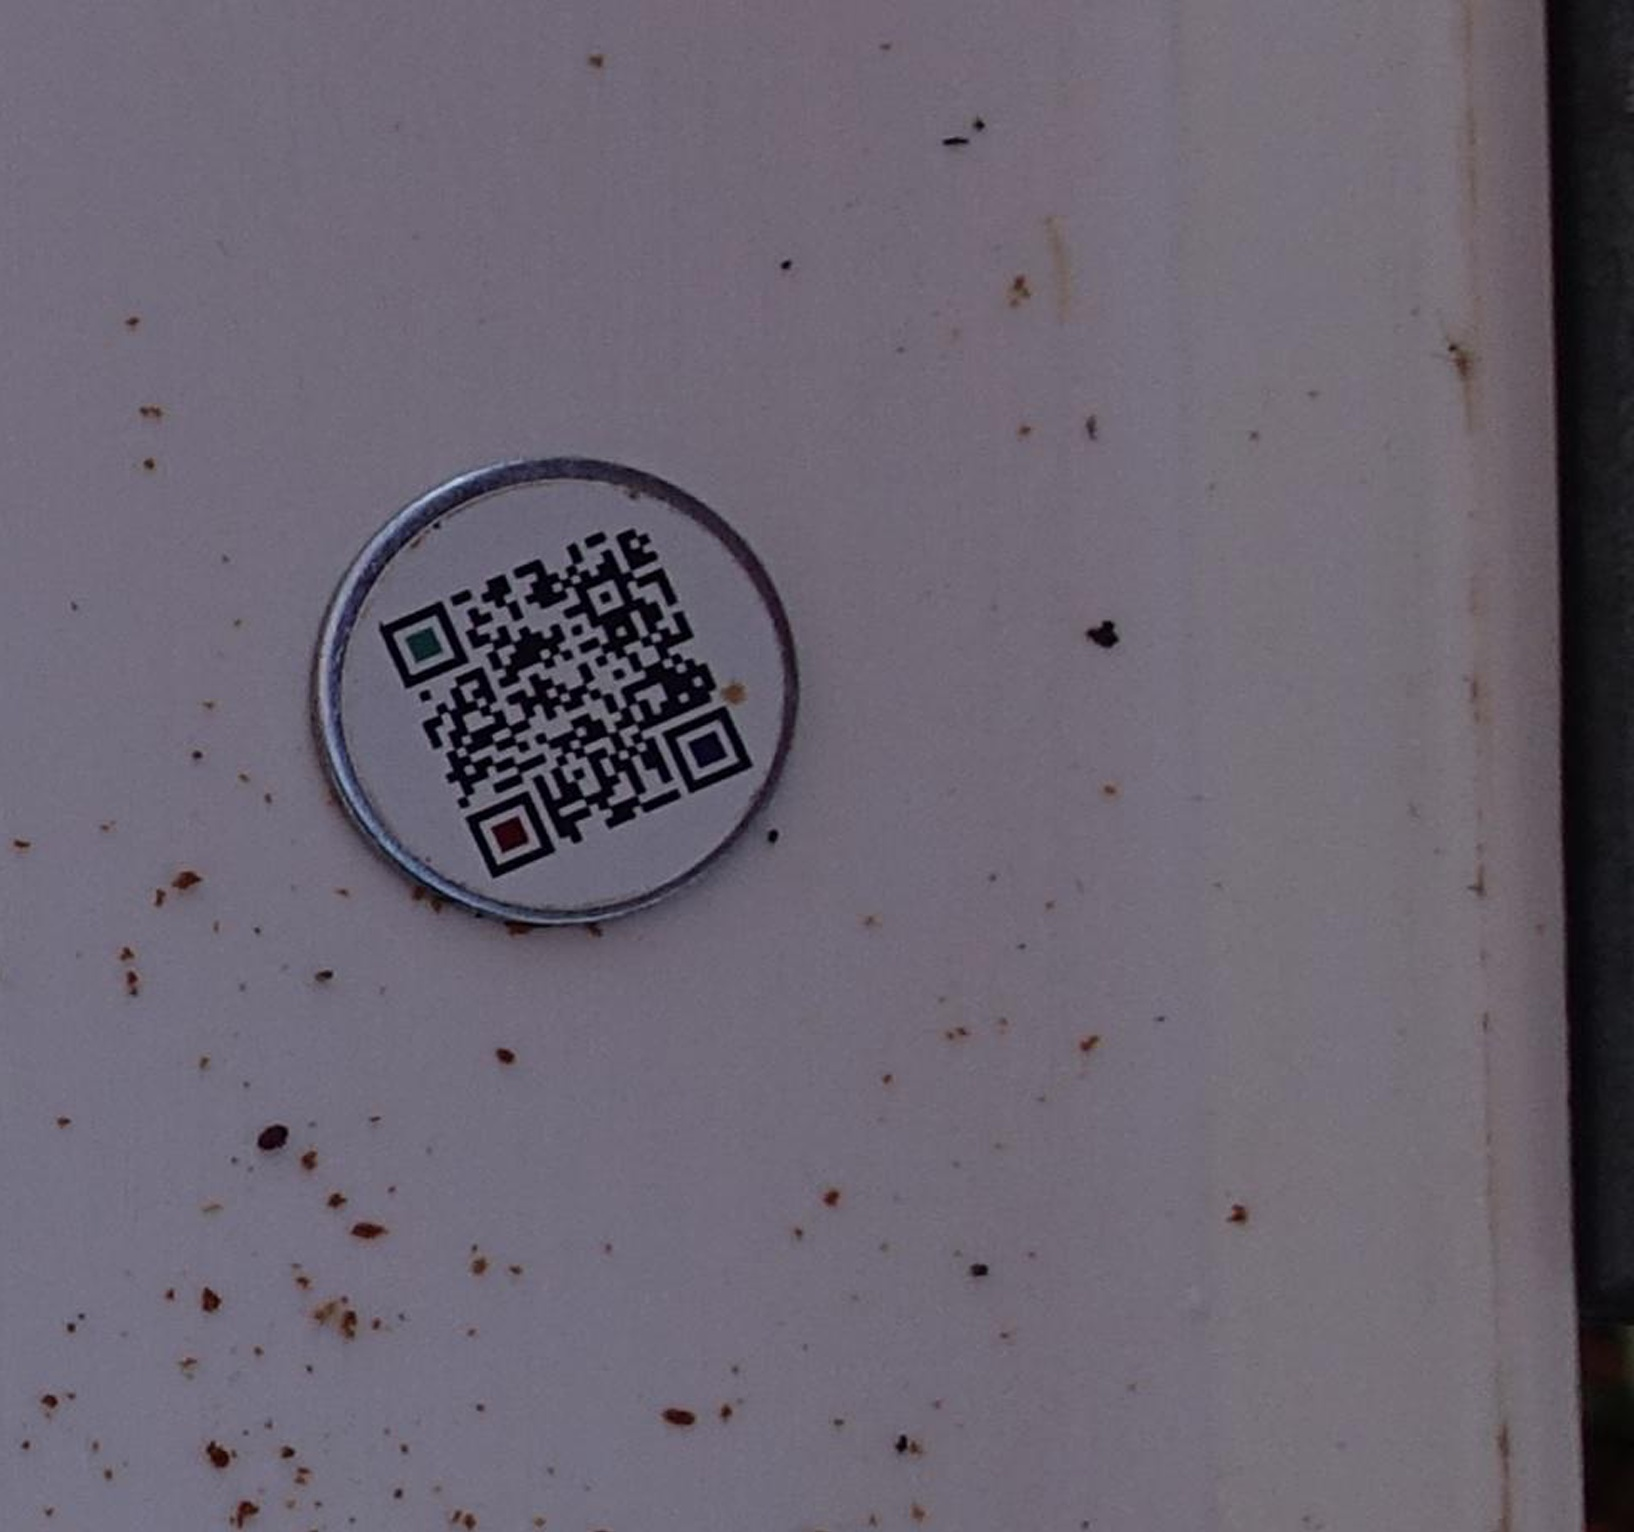Varroa: (256, 1117, 284, 1146)
